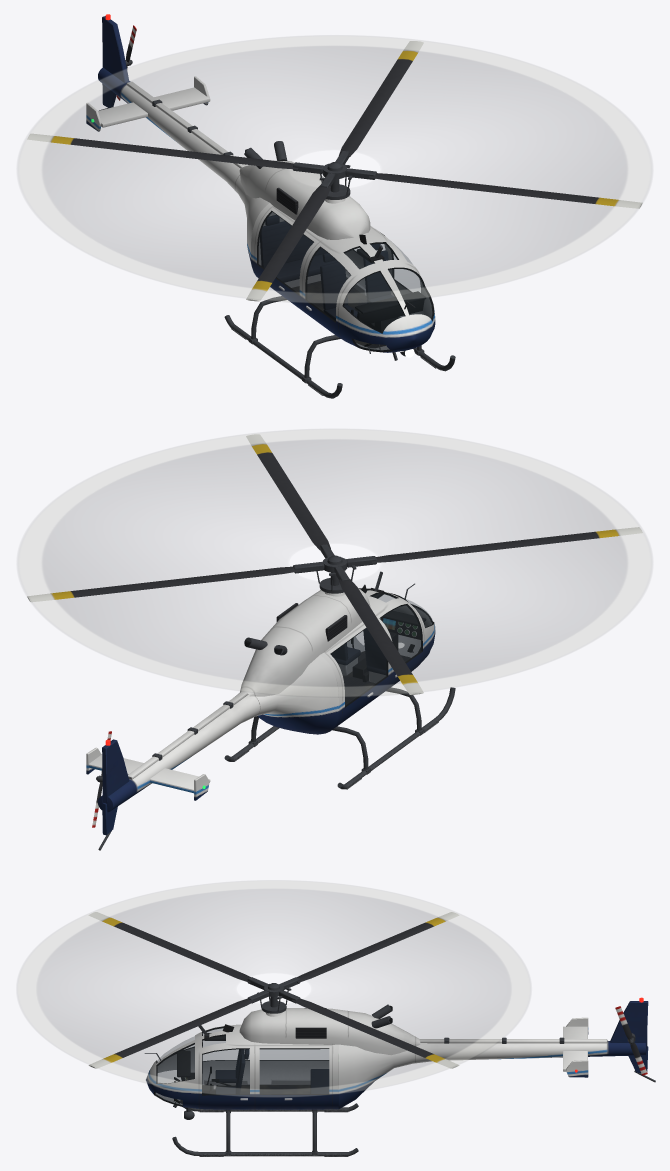
Rendered from helicopter.glb.
The picture shows the model from 3 angles, top to bottom: view 1: azimuth 30°, elevation 25°; view 2: azimuth 150°, elevation 25°; view 3: azimuth 270°, elevation 25°; orthographic projection. The views are drawn at different scales.
Parts seen in each view (by area): view 1: rotor_main_blur, body, rotor_main, body_glass; view 2: rotor_main_blur, body, rotor_main, body_glass; view 3: rotor_main_blur, body, body_glass, rotor_main, rotor_tail.
Part boxes in pixels (x1=…): rotor_main_blur: x1=18, y1=35, x2=651, y2=303; body: x1=86, y1=14, x2=455, y2=398; rotor_main: x1=27, y1=41, x2=642, y2=301; body_glass: x1=258, y1=211, x2=433, y2=351; rotor_main_blur: x1=18, y1=429, x2=651, y2=696; body: x1=86, y1=571, x2=455, y2=850; rotor_main: x1=27, y1=434, x2=642, y2=694; body_glass: x1=331, y1=589, x2=433, y2=706; rotor_main_blur: x1=17, y1=880, x2=530, y2=1097; body: x1=144, y1=997, x2=655, y2=1156; body_glass: x1=155, y1=1027, x2=328, y2=1105; rotor_main: x1=88, y1=912, x2=459, y2=1068; rotor_tail: x1=615, y1=1006, x2=647, y2=1075.
Bounding box in the file's own units: 10.84 × 3.45 × 13.38.
Materials: 3 (2 with a texture image).
